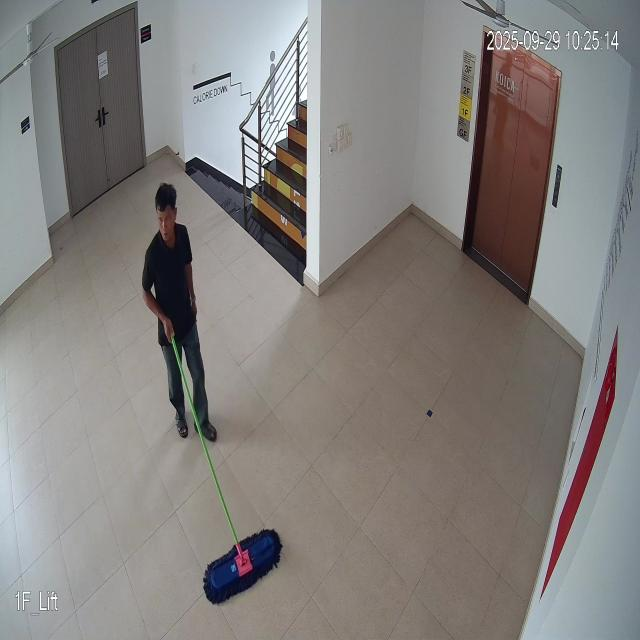face: (153, 181, 181, 247)
